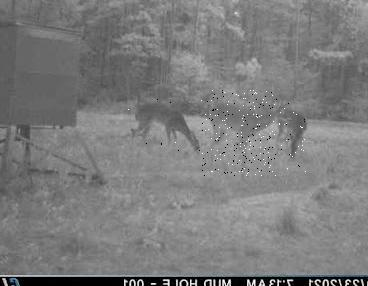Deer: (201, 90, 282, 176), (127, 98, 205, 157), (275, 100, 306, 174)
